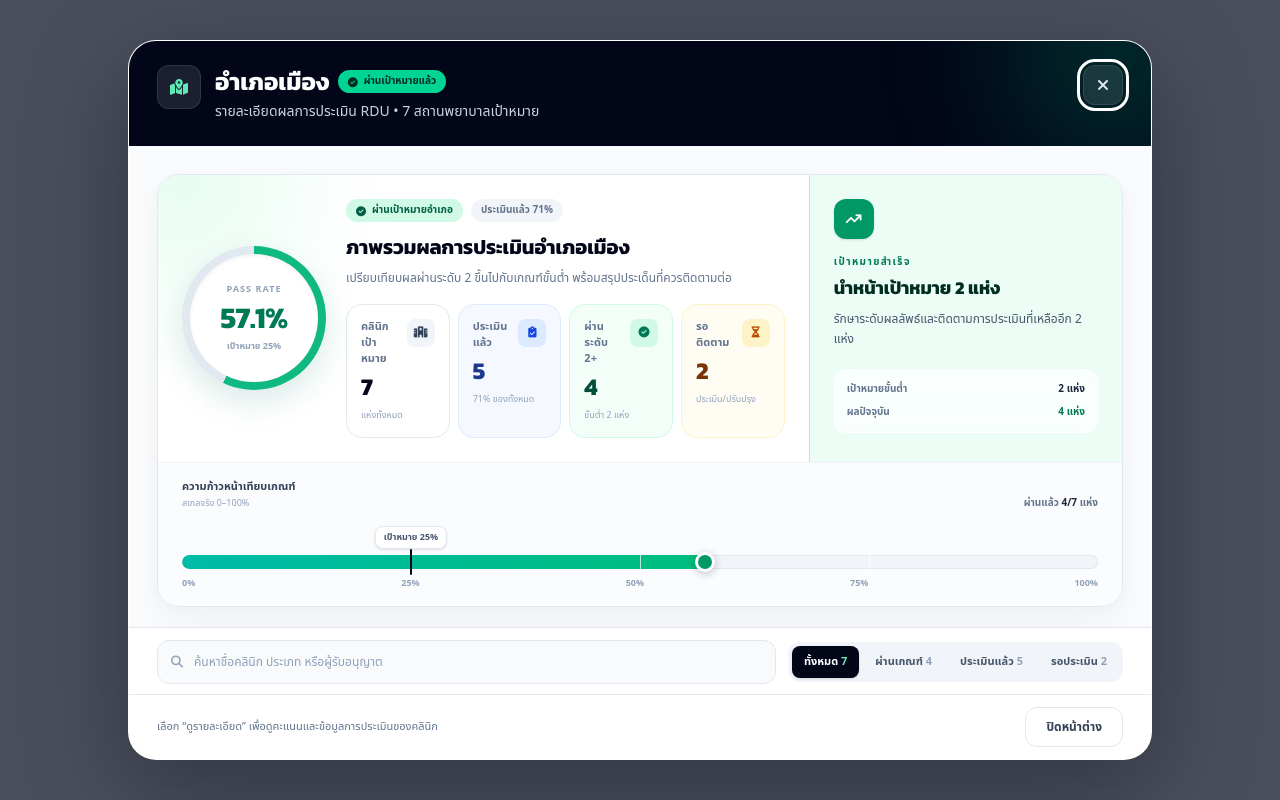
Scenario: DistrictDetailModal › treats every unassessed status as pending
Click the button "รอประเมิน 2".
click(1079, 662)  # box [1039, 646, 1119, 678]
(page scrolled)
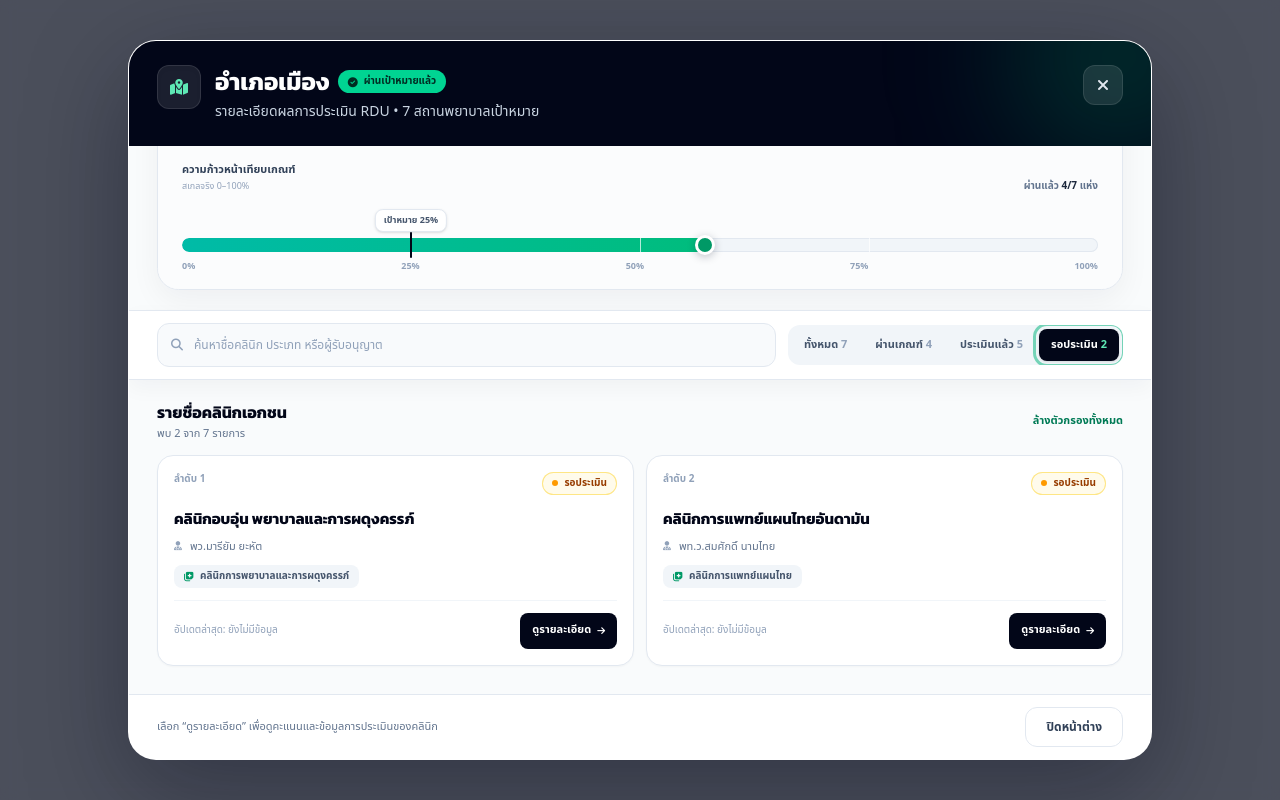
Check: the text "พบ 2 จาก 7 รายการ" is shown, box [157, 425, 245, 442]
Check: the heading "คลินิกอบอุ่น พยาบาลและการผดุงครรภ์" is shown, box [174, 506, 414, 530]
Check: the heading "คลินิกการแพทย์แผนไทยอันดามัน" is shown, box [663, 506, 870, 530]
